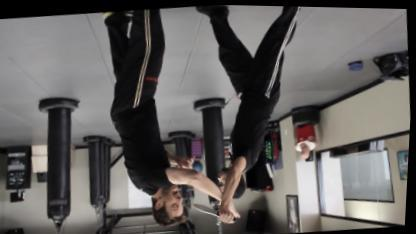knife: (192, 198, 240, 226)
